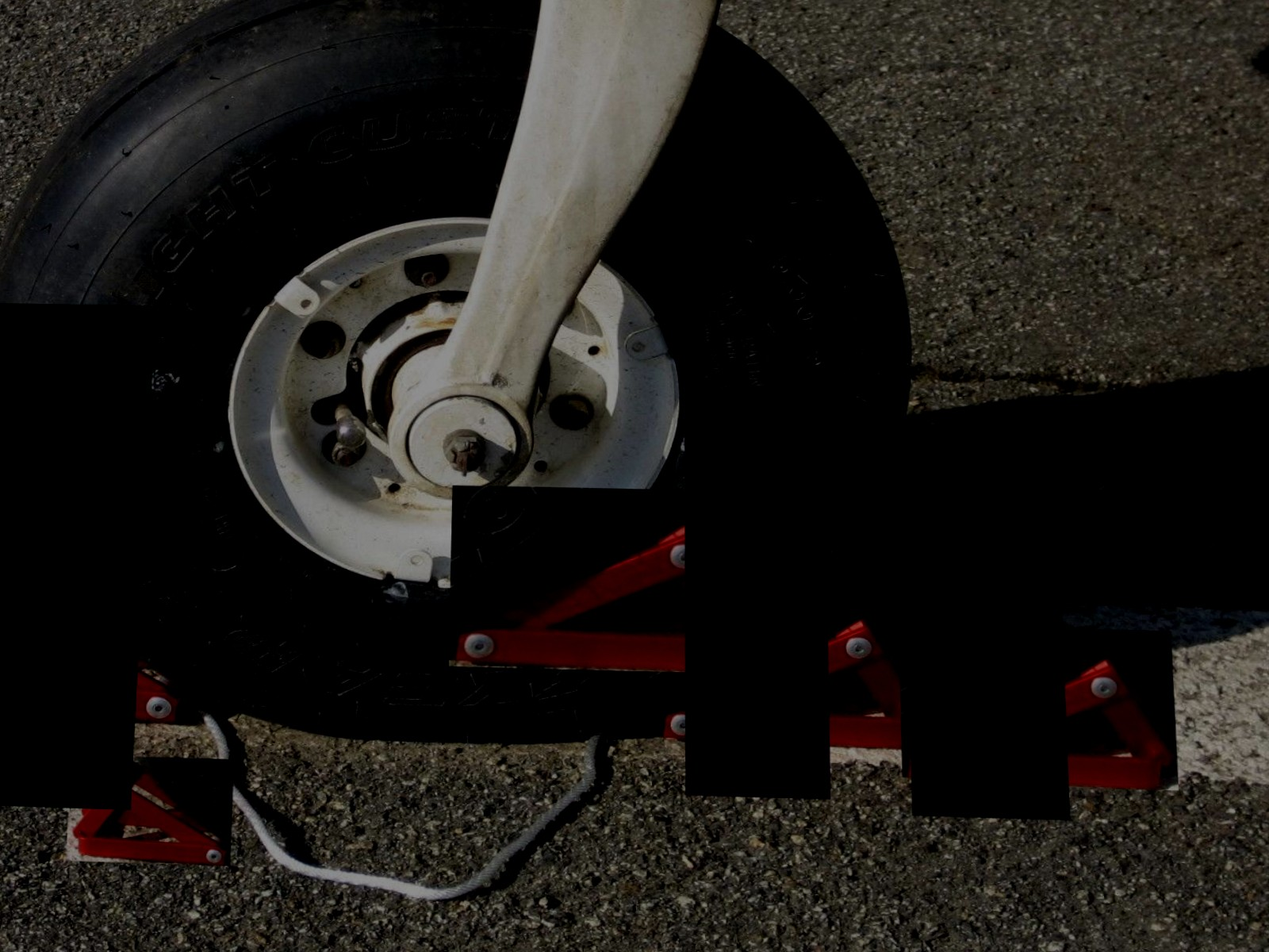chock: (447, 484, 772, 675), (894, 625, 1184, 791), (653, 585, 935, 750), (0, 546, 193, 723), (66, 755, 234, 866)
wheel: (0, 0, 916, 734)
